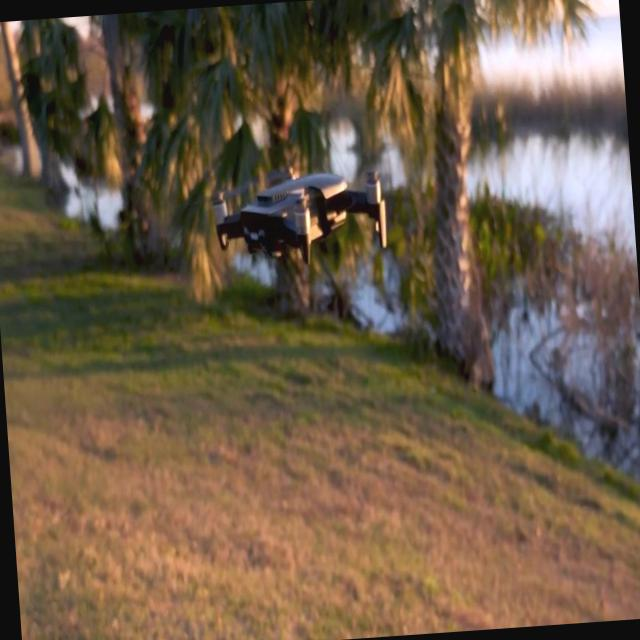drone: (210, 158, 398, 272)
